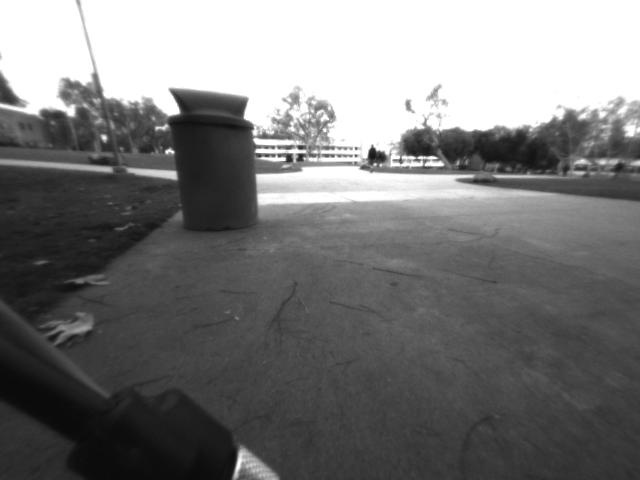trashcan: (166, 84, 262, 236)
